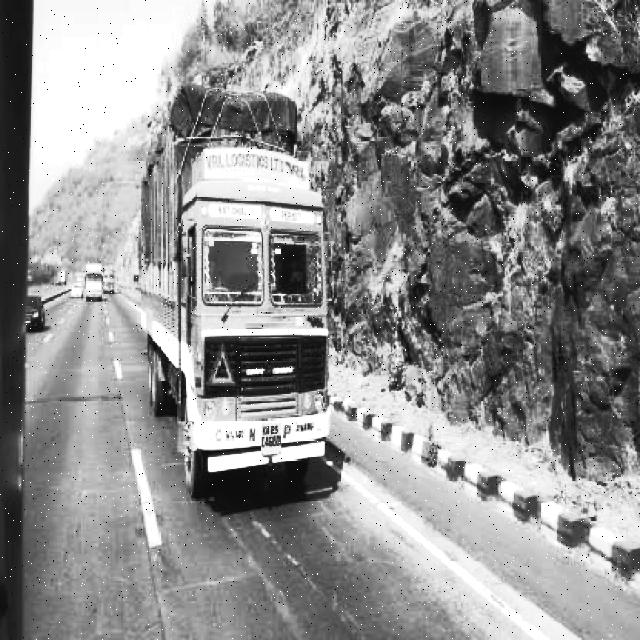HCV: (137, 91, 331, 484)
